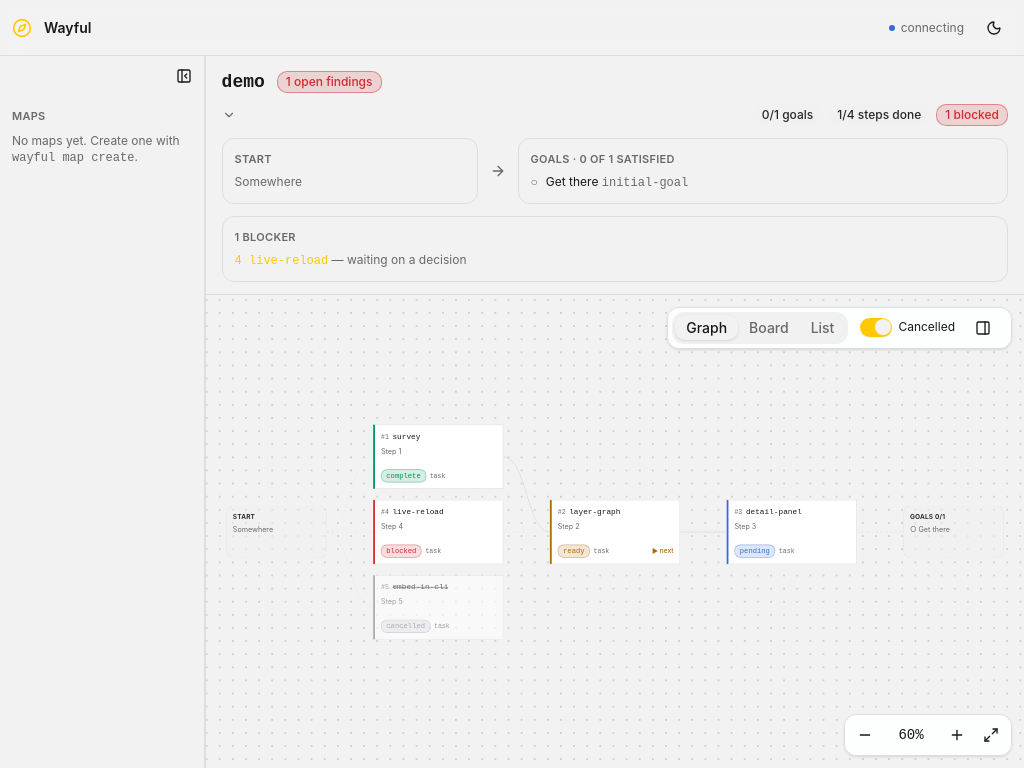
Scenario: the UI › collapses the maps rail, then restores it from the floating button
Check: the heading "demo" is shown, box [222,68,265,96]
Check: the navigation bar "Maps" is shown, box [12,109,180,164]
Step 1. Click the button named "Collapse maps rail" → (184,76), box [168,60,200,92]
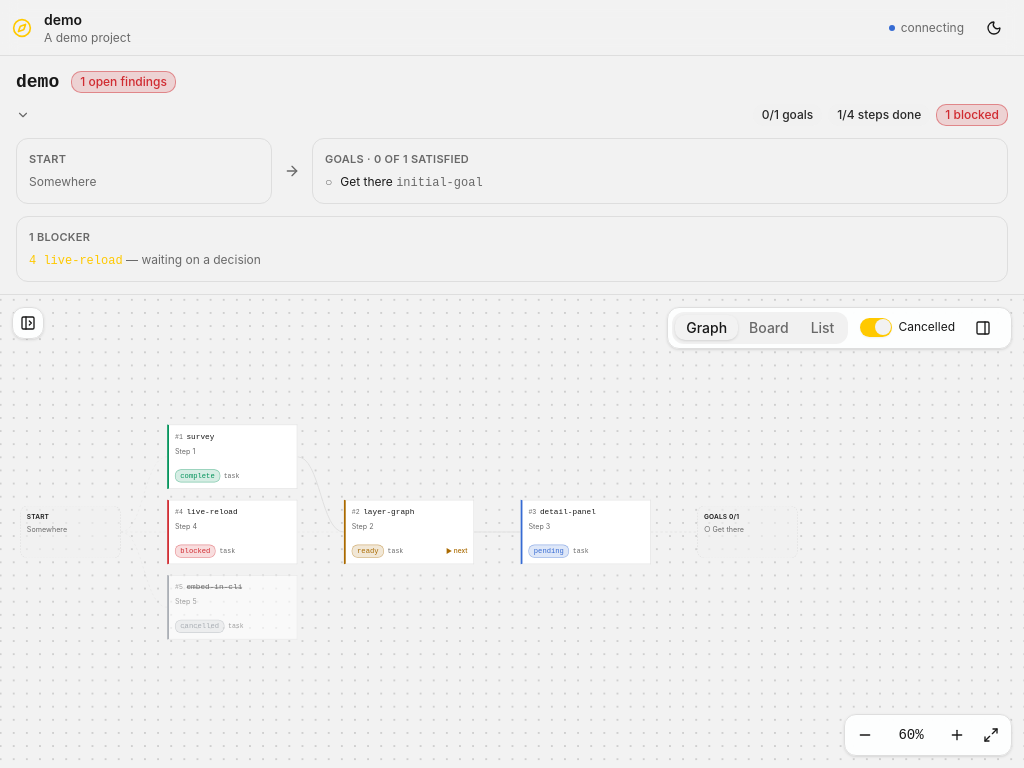
Check: the heading "Maps" is gone
Step 2. Click the button named "Show maps rail" → (28,322), box [12,306,44,338]
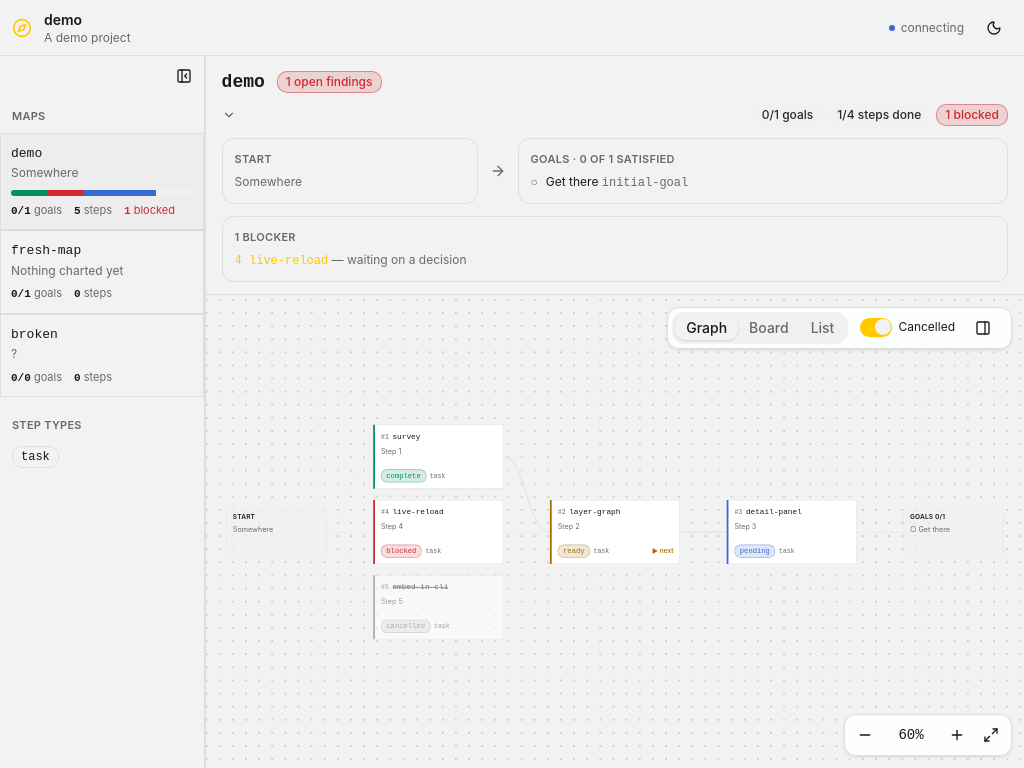
Check: the navigation bar "Maps" is shown, box [0,96,204,480]
